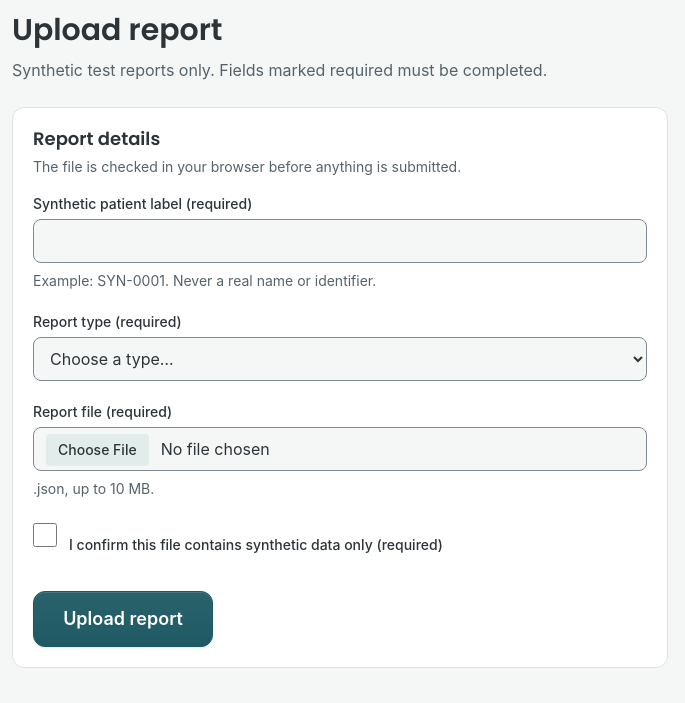
it: UploadReportPage › shows a field-level error for every empty field and does not submit
Click the button "Upload report": x=123, y=619 [33,591,213,647]
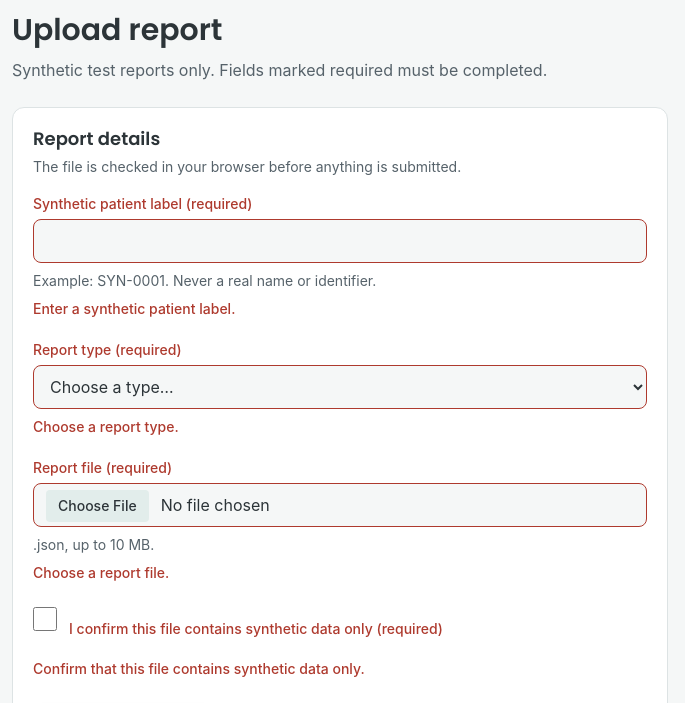
Expected: the text "Enter a synthetic patient label." is shown, [33,300,235,317]
Expected: the text "Choose a report type." is shown, [33,418,179,435]
Expected: the text "Choose a report file." is shown, [33,564,169,581]
